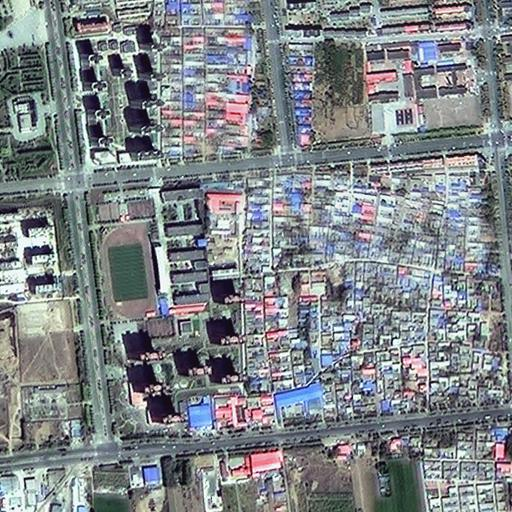school: (90, 181, 206, 320), (361, 41, 418, 135)
